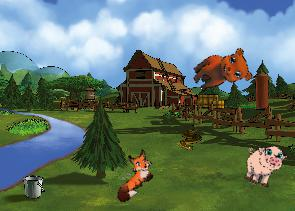bear: (187, 40, 257, 105)
fox: (101, 145, 163, 205)
pig: (239, 139, 288, 191)
